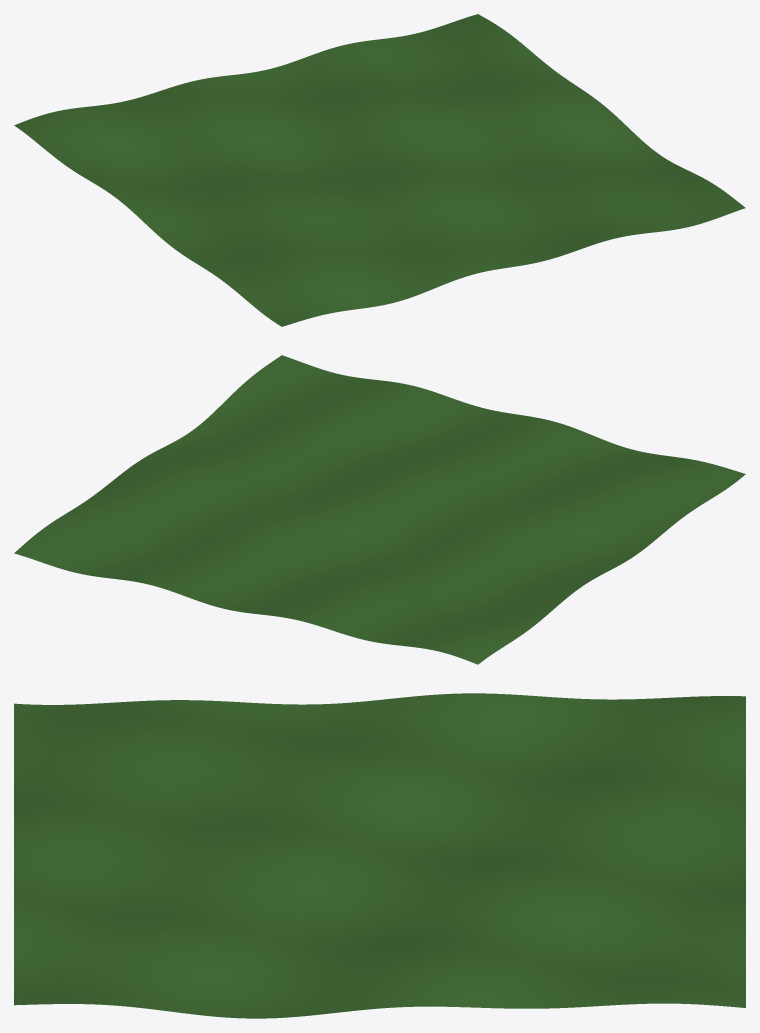
File: pine_plateau_112.obj
The picture shows the model from 3 angles, top to bottom: view 1: azimuth 30°, elevation 25°; view 2: azimuth 150°, elevation 25°; view 3: azimuth 270°, elevation 25°; orthographic projection. The views are drawn at different scales.
Bounding box in the file's own units: 222 × 6.98 × 222.
